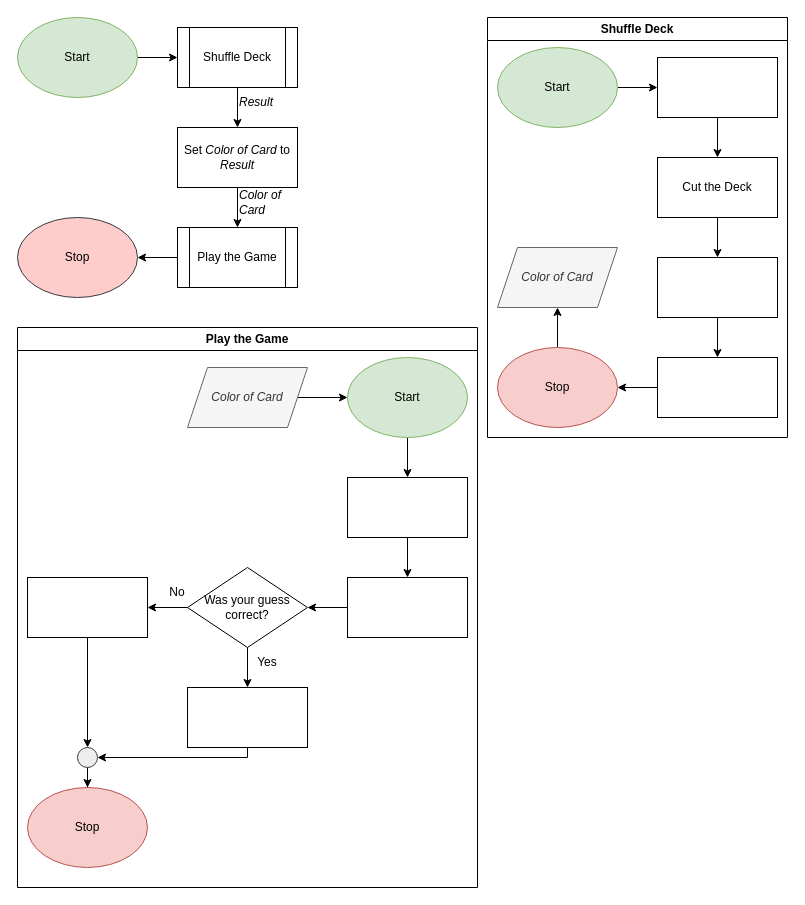
Image size: 805x905. Some labels were removed from this diagram. The shapes that lost their labels are listed below. From the top down, each one's centre as x and y in pixels, then its label:
(x=717, y=87): Shuffle the cards
(x=717, y=287): Place cards face down
(x=717, y=387): Flip the top card
(x=407, y=507): Guess if the next card will be Red or Black
(x=87, y=607): Lose
(x=407, y=607): Flip the next card
(x=247, y=717): Win
